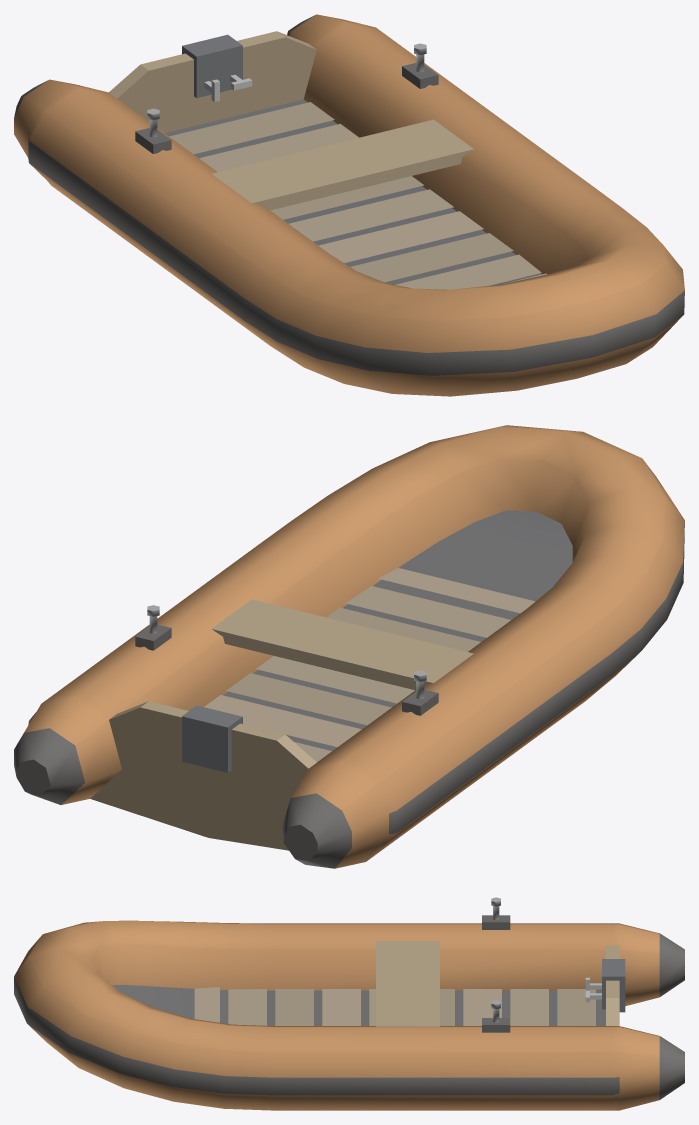
Rendered from DinghyPlain.glb.
3 renders of one model, top to bottom at view 1: azimuth 30°, elevation 25°; view 2: azimuth 150°, elevation 25°; view 3: azimuth 270°, elevation 25°, orthographic. The views are drawn at different scales.
Parts seen in each view (by area): view 1: DinghyPlain; view 2: DinghyPlain; view 3: DinghyPlain.
Boxes of the visible parts, x1,y1,x2,y2 form: DinghyPlain: (14,14,684,396); DinghyPlain: (14,425,684,868); DinghyPlain: (14,897,684,1110).
Size of the model in its own units: 3.99 by 1.52 by 7.99.
